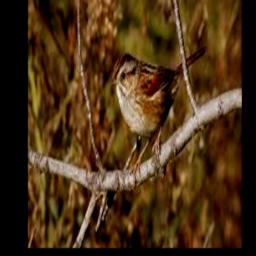Sparrow: (110, 47, 206, 185)
